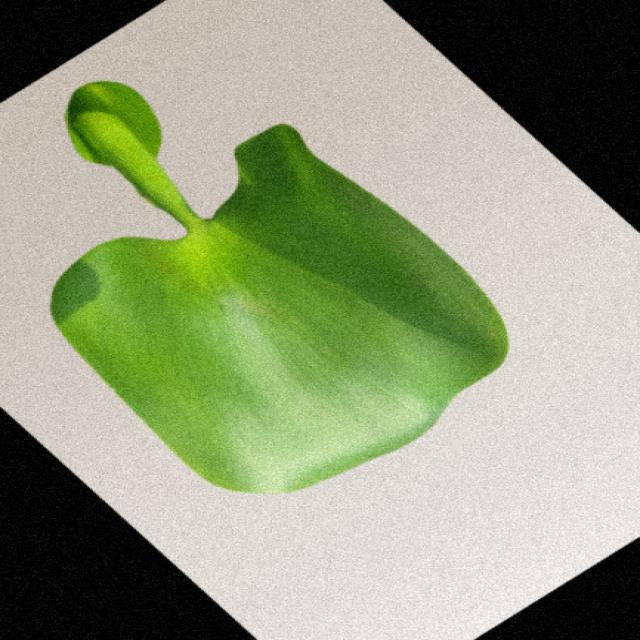daun berpenyakit bercak: (53, 84, 508, 492)
